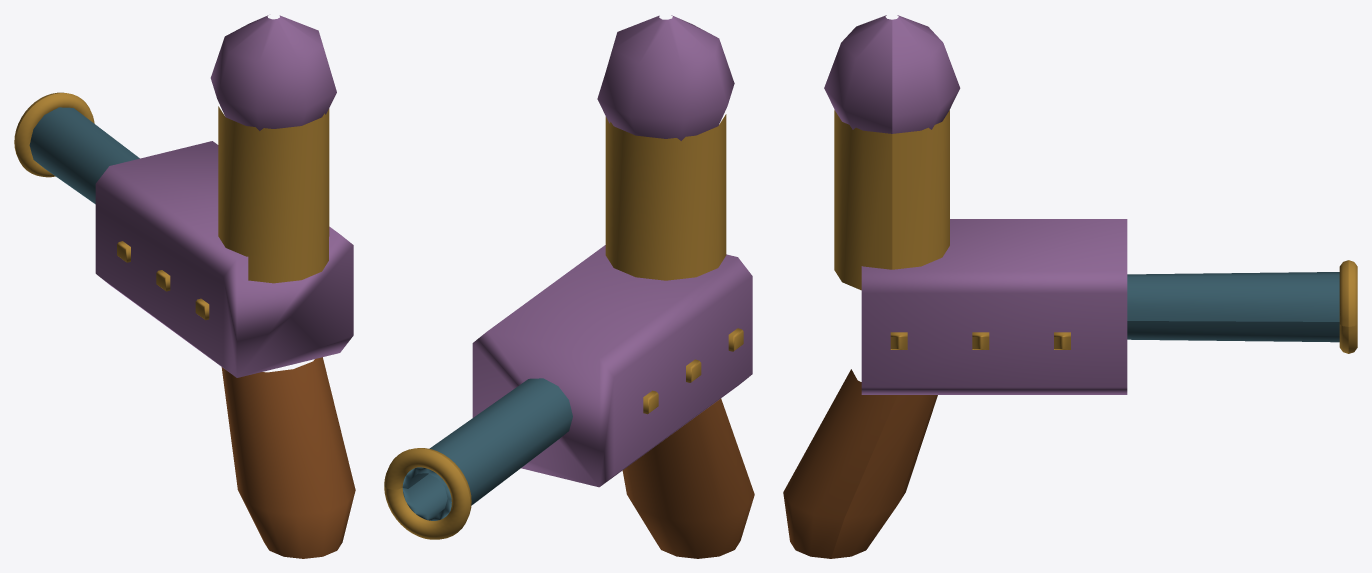
File: weapon_ghost.glb
The picture shows the model from 3 angles, left to right: view 1: azimuth 30°, elevation 25°; view 2: azimuth 150°, elevation 25°; view 3: azimuth 270°, elevation 25°; orthographic projection. The views are drawn at different scales.
Parts seen in each view (by area): view 1: ShapedReceiver, Grip, Tank, TankCharge, HollowBarrel0, BarrelCuff0; view 2: ShapedReceiver, Tank, Grip, TankCharge, HollowBarrel0, BarrelCuff0; view 3: ShapedReceiver, Grip, Tank, HollowBarrel0, TankCharge, BarrelCuff0.
Boxes of the visible parts, left/top/right/bottom form: ShapedReceiver: left=95, top=141, right=353, bottom=377; Grip: left=221, top=357, right=355, bottom=558; Tank: left=218, top=106, right=329, bottom=283; TankCharge: left=210, top=15, right=336, bottom=130; HollowBarrel0: left=29, top=107, right=139, bottom=204; BarrelCuff0: left=14, top=92, right=94, bottom=177; ShapedReceiver: left=472, top=245, right=752, bottom=487; Tank: left=605, top=114, right=726, bottom=280; Grip: left=622, top=398, right=754, bottom=558; TankCharge: left=597, top=15, right=734, bottom=140; HollowBarrel0: left=402, top=378, right=572, bottom=520; BarrelCuff0: left=384, top=448, right=471, bottom=539; ShapedReceiver: left=861, top=219, right=1127, bottom=394; Grip: left=783, top=369, right=937, bottom=558; Tank: left=834, top=110, right=949, bottom=290; HollowBarrel0: left=1127, top=272, right=1339, bottom=342; TankCharge: left=824, top=15, right=960, bottom=133; BarrelCuff0: left=1339, top=260, right=1357, bottom=353.
Bounding box in the file's own units: 0.25 × 0.85 × 0.8433.
